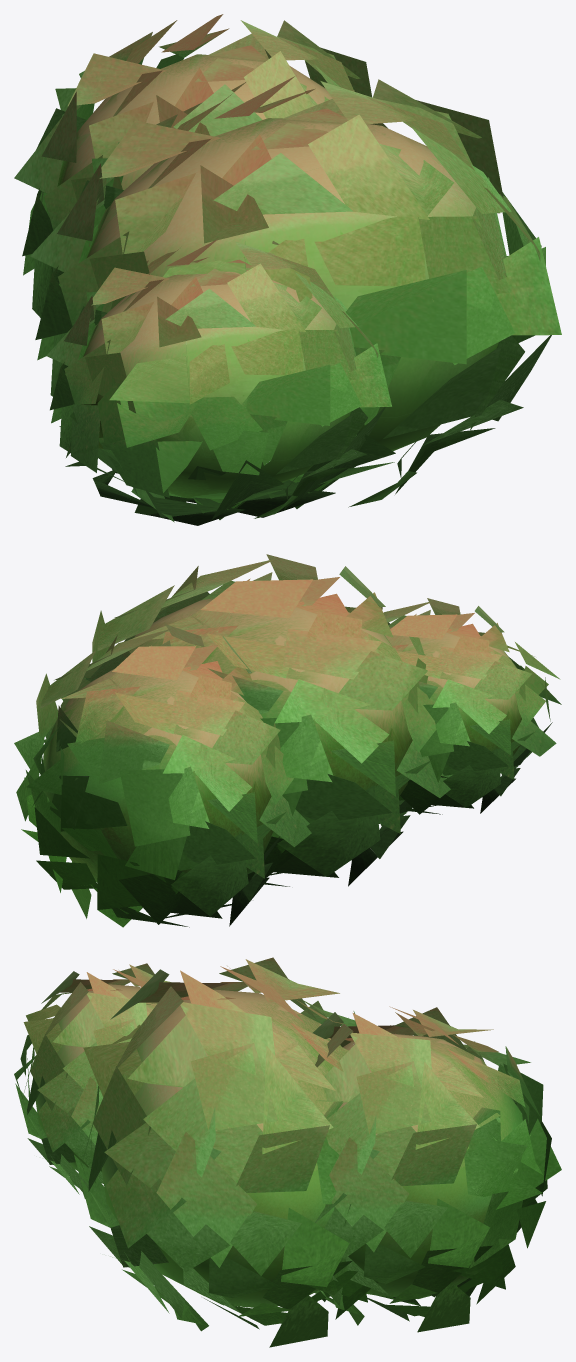
Rendered from SEMAK 2 Modul.fbx.
3 renders of one model, top to bottom at view 1: azimuth 30°, elevation 25°; view 2: azimuth 150°, elevation 25°; view 3: azimuth 270°, elevation 25°, orthographic. The views are drawn at different scales.
Visible parts, largest first — view 1: Cube.003, Cube.002, Cube.004; view 2: Cube.004, Cube.003, Cube.002; view 3: Cube.003, Cube.004, Cube.002.
Part boxes in pixels (x1,y1,x2,y2): Cube.003: (30,76,561,517); Cube.002: (46,238,391,525); Cube.004: (14,14,371,317); Cube.004: (14,624,311,927); Cube.003: (61,554,452,886); Cube.002: (381,598,561,814); Cube.003: (74,957,378,1347); Cube.004: (305,1006,561,1332); Cube.002: (14,963,170,1198).
Bounding box in the file's own units: 628 × 452 × 697.
